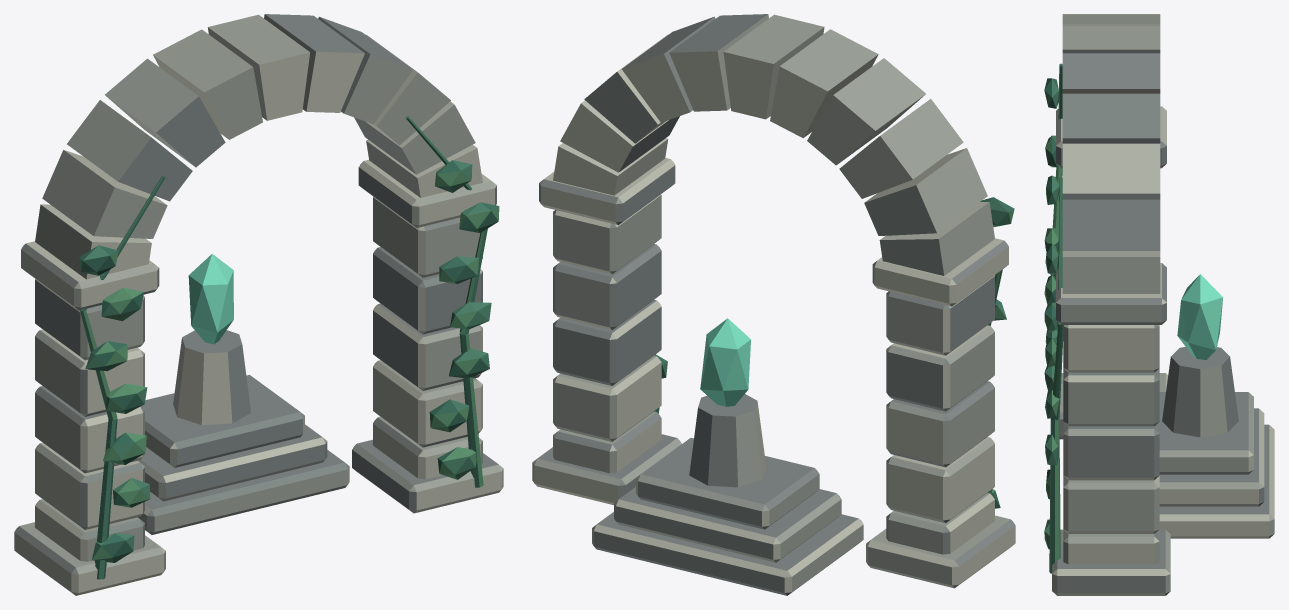
The model's file is forest_shrine_arch.glb.
The picture shows the model from 3 angles, left to right: view 1: azimuth 30°, elevation 25°; view 2: azimuth 150°, elevation 25°; view 3: azimuth 270°, elevation 25°; orthographic projection. The views are drawn at different scales.
Parts seen in each view (by area): view 1: forest_shrine_arch; view 2: forest_shrine_arch; view 3: forest_shrine_arch.
Part boxes in pixels (x1,y1,x2,y2): forest_shrine_arch: (14, 14, 503, 595); forest_shrine_arch: (532, 14, 1015, 595); forest_shrine_arch: (1044, 14, 1274, 595).
Size of the model in its own units: 3.2 by 3.42 by 1.55.
